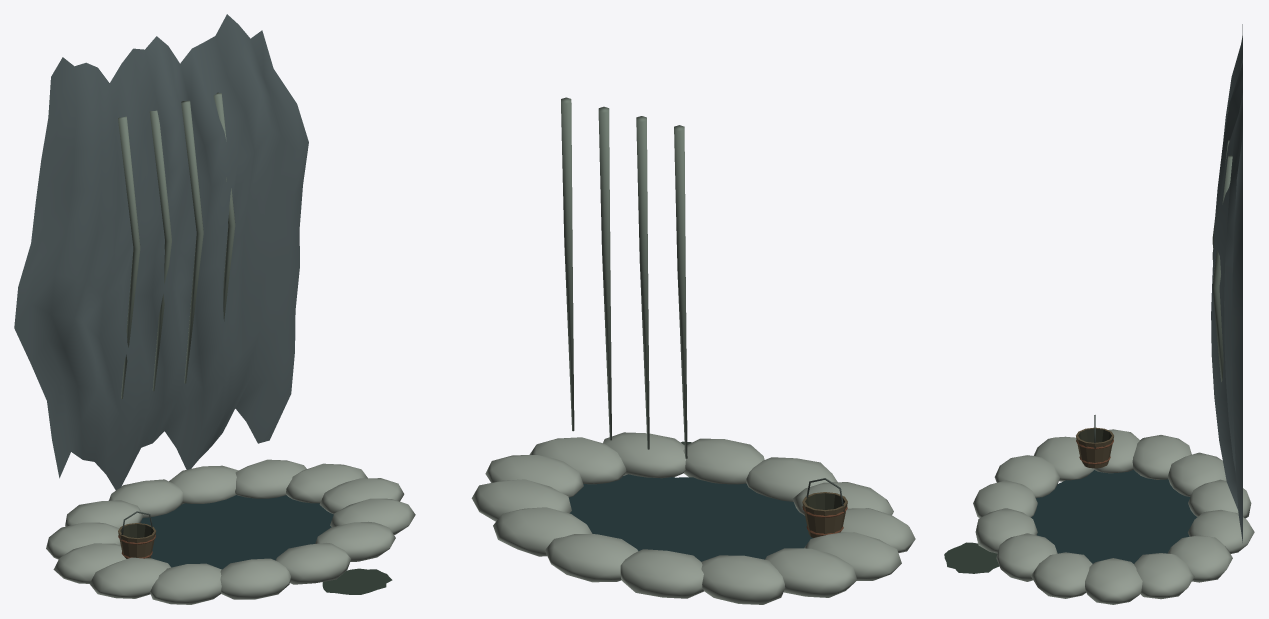
Rendered from seep-used.glb.
3 views of the same model, side by side, from view 1: azimuth 30°, elevation 25°; view 2: azimuth 150°, elevation 25°; view 3: azimuth 270°, elevation 25° (orthographic). The views are drawn at different scales.
Parts seen in each view (by area): view 1: Surface; view 2: Surface; view 3: Surface.
Boxes of the visible parts, <box> form: Surface: <box>14,14,415,604</box>; Surface: <box>471,97,915,604</box>; Surface: <box>944,24,1254,604</box>.
Bounding box in the file's own units: 1.08 × 1.42 × 0.8473.
